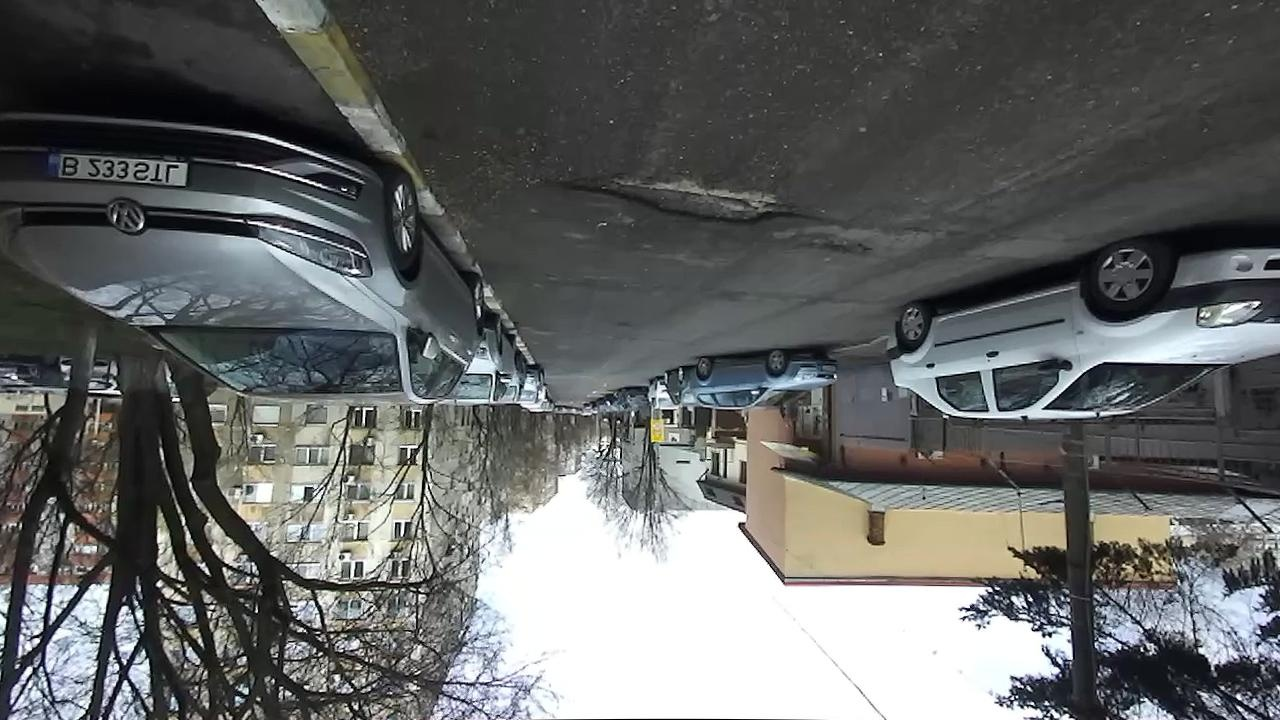pothole: (556, 170, 835, 228), (791, 238, 876, 262)
